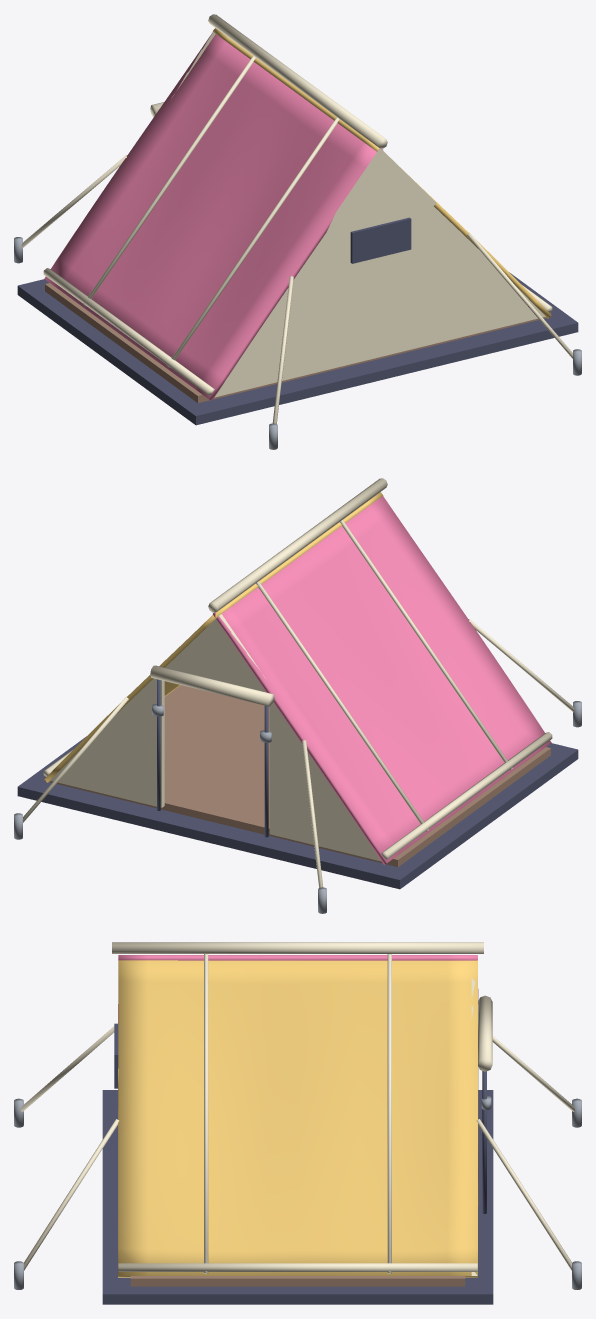
The model's file is FestivalTent.fbx.
The picture shows the model from 3 angles, top to bottom: view 1: azimuth 30°, elevation 25°; view 2: azimuth 150°, elevation 25°; view 3: azimuth 270°, elevation 25°; orthographic projection. The views are drawn at different scales.
Parts seen in each view (by area): view 1: FestivalTent CanvasRose__CanvasRose, FestivalTent Cream__Cream, FestivalTent Dark__Dark, FestivalTent Wood__Wood, FestivalTent CanvasGold__CanvasGold, FestivalTent Metal__Metal; view 2: FestivalTent CanvasRose__CanvasRose, FestivalTent Cream__Cream, FestivalTent Wood__Wood, FestivalTent Dark__Dark, FestivalTent CanvasGold__CanvasGold, FestivalTent Metal__Metal; view 3: FestivalTent CanvasGold__CanvasGold, FestivalTent Cream__Cream, FestivalTent Dark__Dark, FestivalTent Wood__Wood, FestivalTent CanvasRose__CanvasRose, FestivalTent Metal__Metal.
Part boxes in pixels (x1,y1,x2,y2): FestivalTent CanvasRose__CanvasRose: (44, 32, 382, 400); FestivalTent Cream__Cream: (21, 14, 572, 423); FestivalTent Dark__Dark: (17, 217, 578, 425); FestivalTent Wood__Wood: (45, 283, 550, 402); FestivalTent CanvasGold__CanvasGold: (212, 28, 551, 318); FestivalTent Metal__Metal: (14, 237, 581, 449); FestivalTent CanvasRose__CanvasRose: (213, 496, 551, 864); FestivalTent Cream__Cream: (23, 478, 574, 887); FestivalTent Wood__Wood: (45, 685, 550, 866); FestivalTent Dark__Dark: (17, 679, 578, 889); FestivalTent CanvasGold__CanvasGold: (44, 492, 383, 782); FestivalTent Metal__Metal: (14, 701, 581, 913); FestivalTent CanvasGold__CanvasGold: (118, 960, 478, 1277); FestivalTent Cream__Cream: (21, 942, 574, 1275); FestivalTent Dark__Dark: (102, 1023, 493, 1304); FestivalTent Wood__Wood: (130, 1276, 465, 1286); FestivalTent CanvasRose__CanvasRose: (118, 955, 478, 1023); FestivalTent Metal__Metal: (14, 1095, 581, 1289).
Size of the model in its own units: 390 by 235 by 458.
